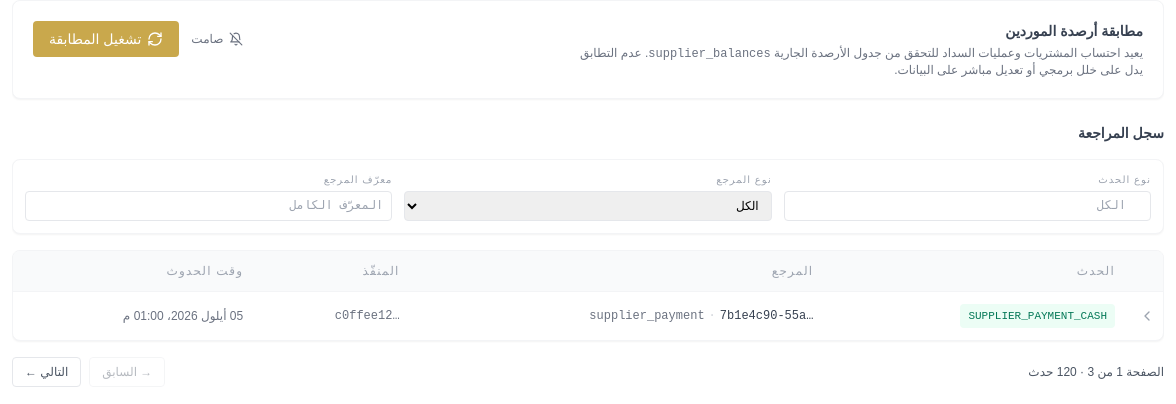
Test: inventory ledger labels and i18n (NEX-64) › still filters by the raw event code typed into the labelled field
In the field labelled "نوع الحدث": (967, 206) [784,191,1151,221], type "MELT"
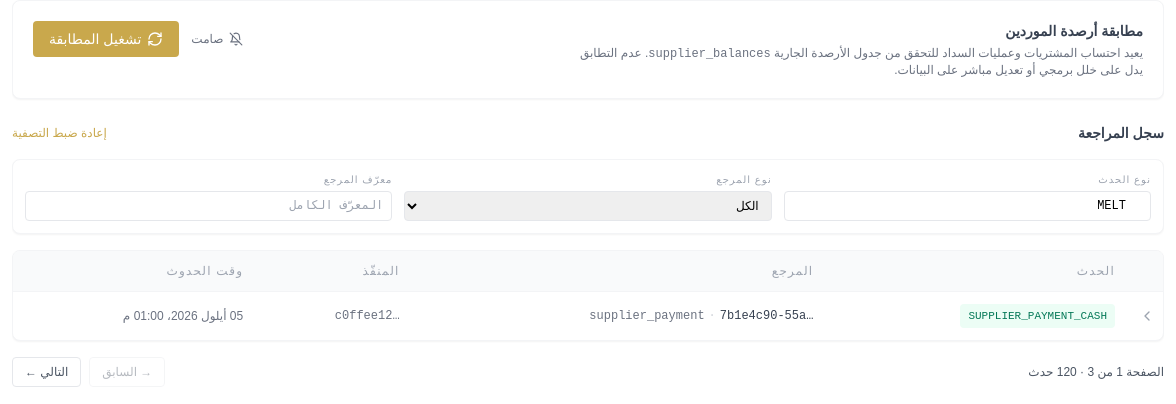
Result: the button "إعادة ضبط التصفية" is shown at [12,125,107,141]
